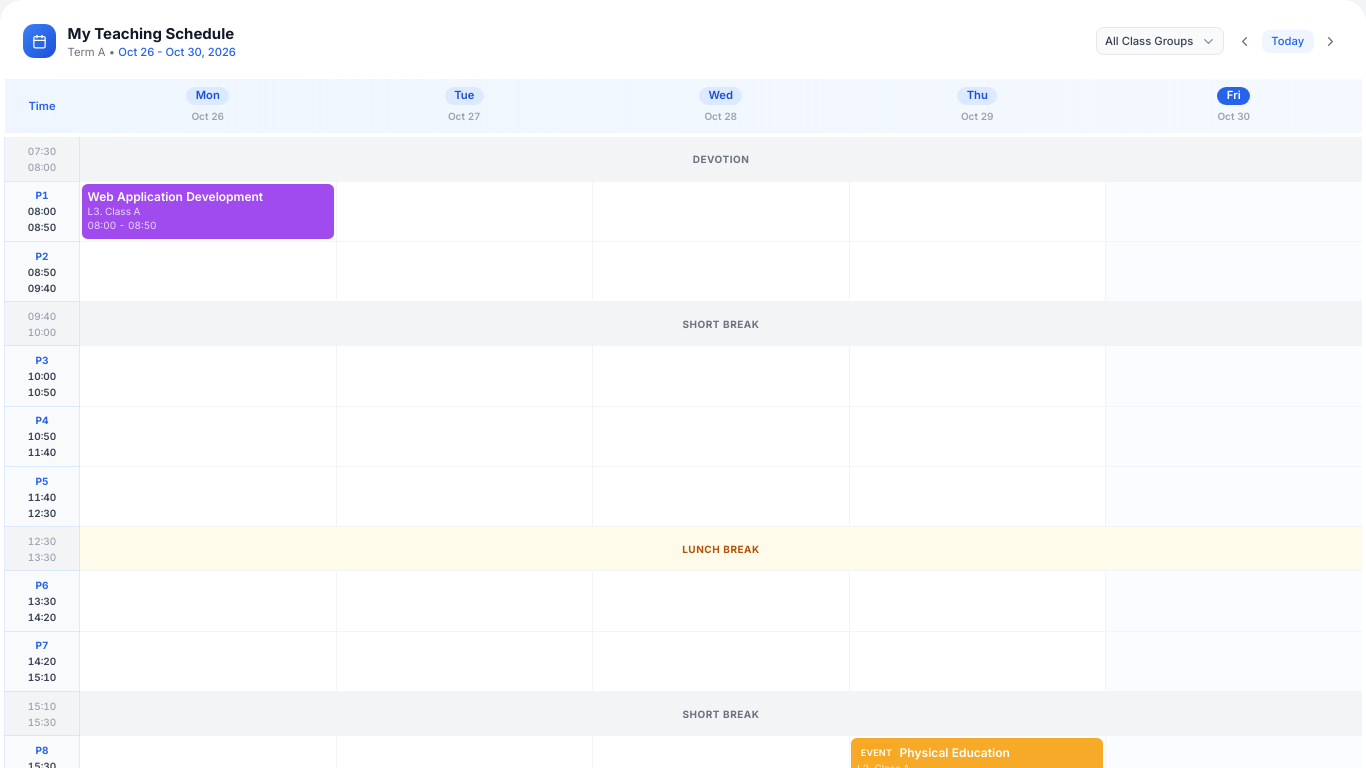
Test: DashboardCalendarWidget — assigned activities › opens a read-only activity view with the assignees on click
The image size is (1366, 768).
Click the text "Physical Education".
click(955, 752)  # box [900,745,1010,760]
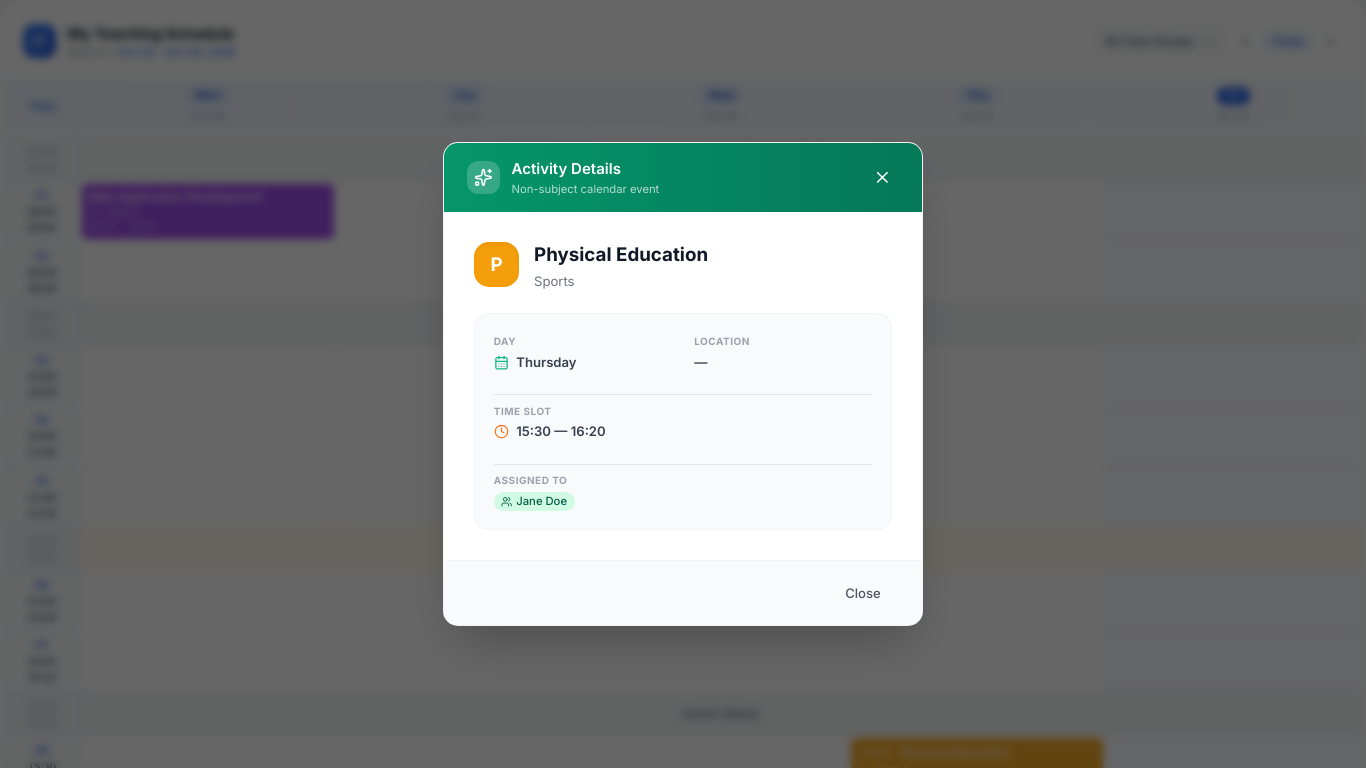
Now the heading "Activity Details" is shown, box [512,159,621,178]
Now the list named "Assigned staff" reads "Jane Doe", box [516,494,567,508]
